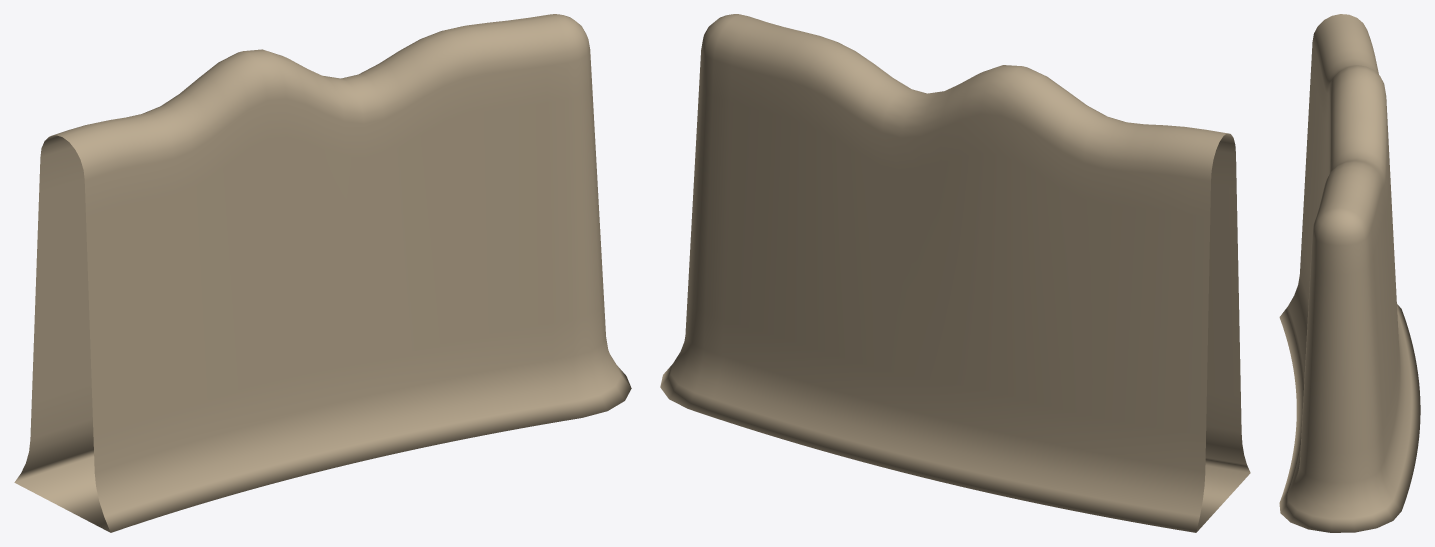
File: KFB_Wall_curved_ring_r4_capA.r3.glb
The picture shows the model from 3 angles, left to right: view 1: azimuth 30°, elevation 25°; view 2: azimuth 150°, elevation 25°; view 3: azimuth 270°, elevation 25°; orthographic projection. The views are drawn at different scales.
Parts seen in each view (by area): view 1: KFB_Wall_curved_ring_r4_capA; view 2: KFB_Wall_curved_ring_r4_capA; view 3: KFB_Wall_curved_ring_r4_capA.
Boxes of the visible parts, <box> form: KFB_Wall_curved_ring_r4_capA: <box>14,14,631,532</box>; KFB_Wall_curved_ring_r4_capA: <box>660,14,1250,532</box>; KFB_Wall_curved_ring_r4_capA: <box>1279,14,1420,532</box>.
Size of the model in its own units: 5.78 by 3.87 by 1.54.
